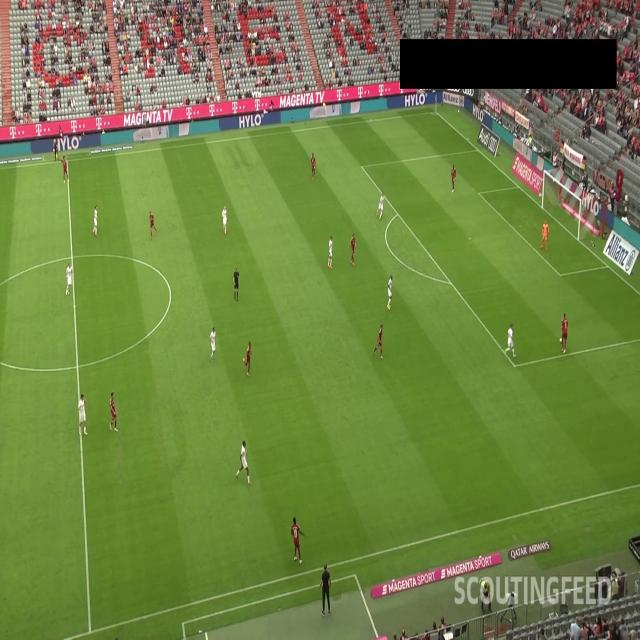ball: (559, 334, 563, 344)
player: (288, 512, 308, 564), (233, 438, 251, 486), (502, 320, 517, 359), (62, 258, 76, 299), (207, 323, 220, 364), (242, 337, 255, 378), (372, 322, 385, 362), (77, 390, 88, 437), (89, 202, 101, 243), (108, 390, 119, 434), (539, 214, 551, 252), (146, 206, 158, 243), (325, 233, 336, 272), (448, 160, 460, 195), (376, 187, 387, 224), (348, 228, 358, 268), (560, 309, 568, 357), (386, 271, 395, 311), (308, 152, 318, 187), (60, 154, 70, 187), (220, 202, 229, 235)
referee: (231, 265, 242, 306), (52, 136, 60, 162)
